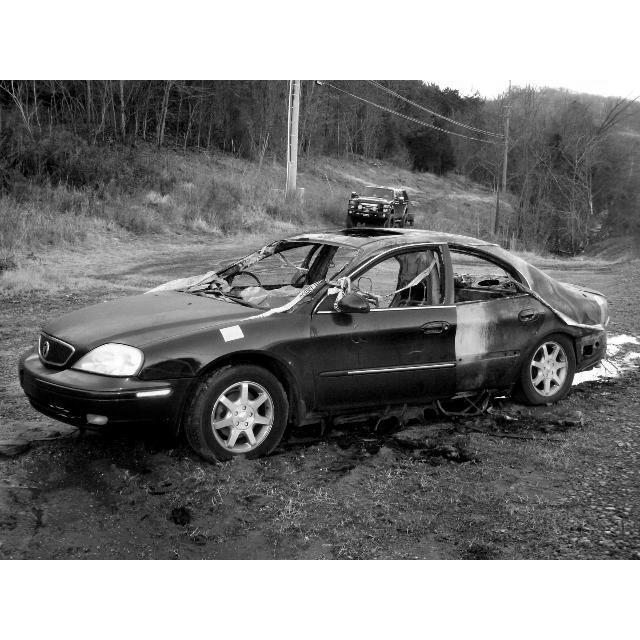Front-windscreen-damage: (210, 230, 347, 310)
doorouter-dent: (460, 298, 539, 379)
roof-dent: (289, 218, 485, 250)
